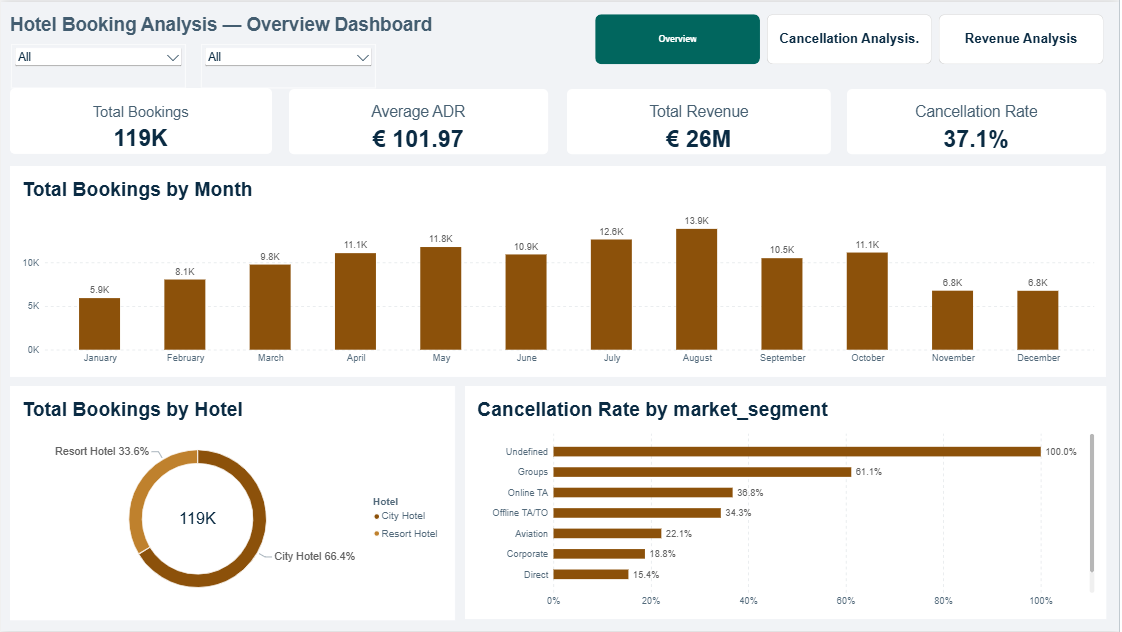

Layout of this report page (visuals, bound fields, positions):
{"tool":"powerbi","page":{"name":"Overview","canvas":[1920,1080],"ordinal":0},"visuals":[{"type":"cardVisual","fields":{"Data":["_Measures.Total Revenue"]},"box":[972,149.4,453.4,111.6],"z":0},{"type":"cardVisual","fields":{"Data":["_Measures.Cancellation Rate"]},"box":[1452.9,149.4,444.8,111.6],"z":1000},{"type":"cardVisual","fields":{"Data":["_Measures.Average ADR"]},"box":[494.6,149.4,444.8,111.6],"z":2000},{"type":"columnChart","fields":{"Category":["DateTable.Month"],"Y":["_Measures.Total Bookings"]},"box":[15.5,281.6,1881.8,361.5],"z":3000},{"type":"donutChart","fields":{"Category":["vw_bookings_detail.hotel"],"Y":["_Measures.Total Bookings"]},"box":[15.5,659.5,764.2,401.9],"z":4000},{"type":"barChart","fields":{"Category":["vw_bookings_detail.market_segment"],"Y":["_Measures.Cancellation Rate"]},"box":[796.9,659.5,1100.8,400.1],"z":5000},{"type":"textbox","box":[15.5,20.7,956.6,63.8],"z":6000},{"type":"slicer","fields":{"Values":["DateTable.Year"]},"box":[16.5,72,299.9,75.8],"z":7000},{"type":"slicer","fields":{"Values":["vw_bookings_detail.hotel"]},"box":[343.7,72,299.9,75.8],"z":8000},{"type":"pageNavigator","box":[1018.6,18.5,878.7,90.5],"z":9000},{"type":"cardVisual","fields":{"Data":["_Measures.Total Bookings"]},"box":[15.5,147.7,449.9,113.3],"z":10000}]}

Visuals, with their boxes in screenshot pixels (x1, y1, x2, y2), scaled from the page's 1920x1080 canvas onto the 1122x632 screenshot:
cardVisual - _Measures.Total Revenue: region(568, 87, 833, 153)
cardVisual - _Measures.Cancellation Rate: region(849, 87, 1109, 153)
cardVisual - _Measures.Average ADR: region(289, 87, 549, 153)
columnChart - DateTable.Month x _Measures.Total Bookings: region(9, 165, 1109, 376)
donutChart - vw_bookings_detail.hotel x _Measures.Total Bookings: region(9, 386, 456, 621)
barChart - vw_bookings_detail.market_segment x _Measures.Cancellation Rate: region(466, 386, 1109, 620)
textbox: region(9, 12, 568, 49)
slicer - DateTable.Year: region(10, 42, 185, 86)
slicer - vw_bookings_detail.hotel: region(201, 42, 376, 86)
pageNavigator: region(595, 11, 1109, 64)
cardVisual - _Measures.Total Bookings: region(9, 86, 272, 153)
